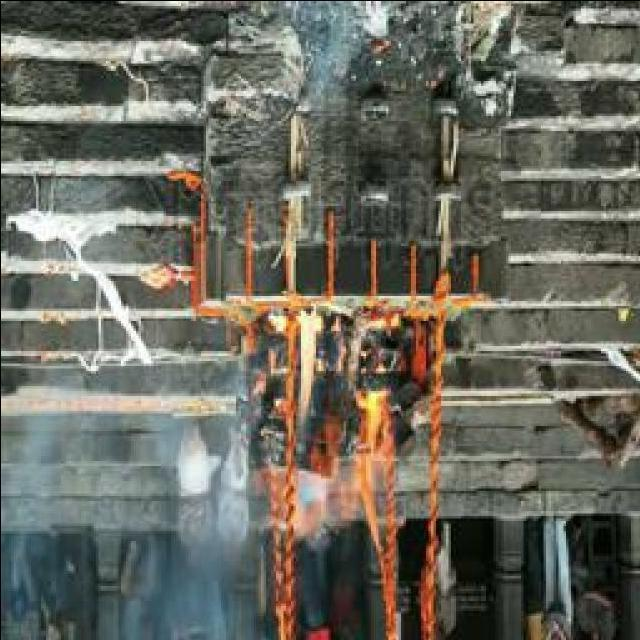Fire: (295, 305, 400, 556)
